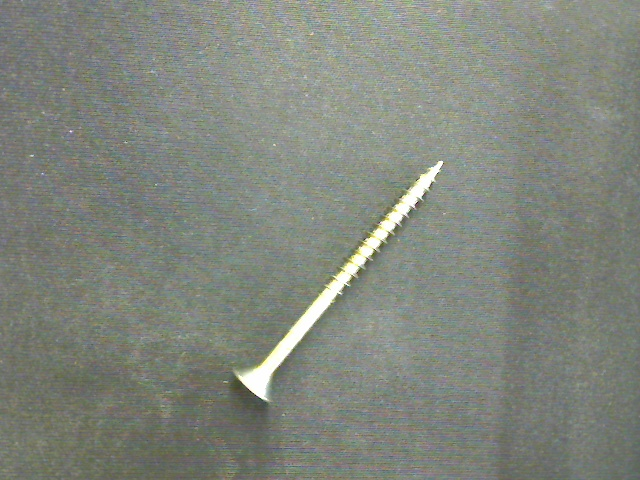screw9: (232, 159, 444, 404)
